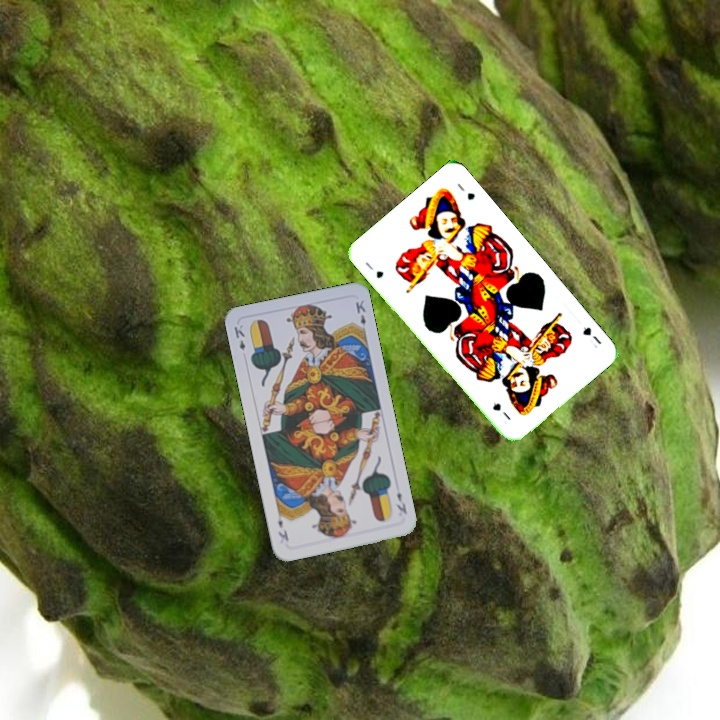EK: (230, 321, 248, 353), (392, 488, 410, 516)
GU: (578, 322, 604, 351), (361, 258, 386, 281)
